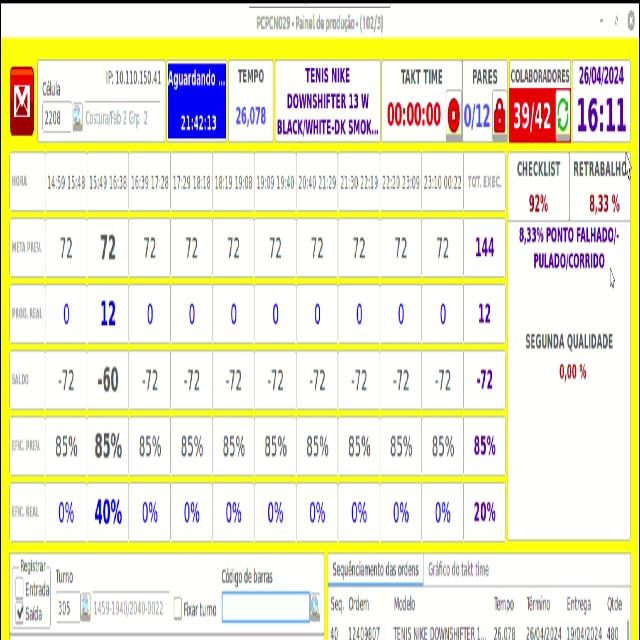takt_time: (381, 65, 444, 132)
